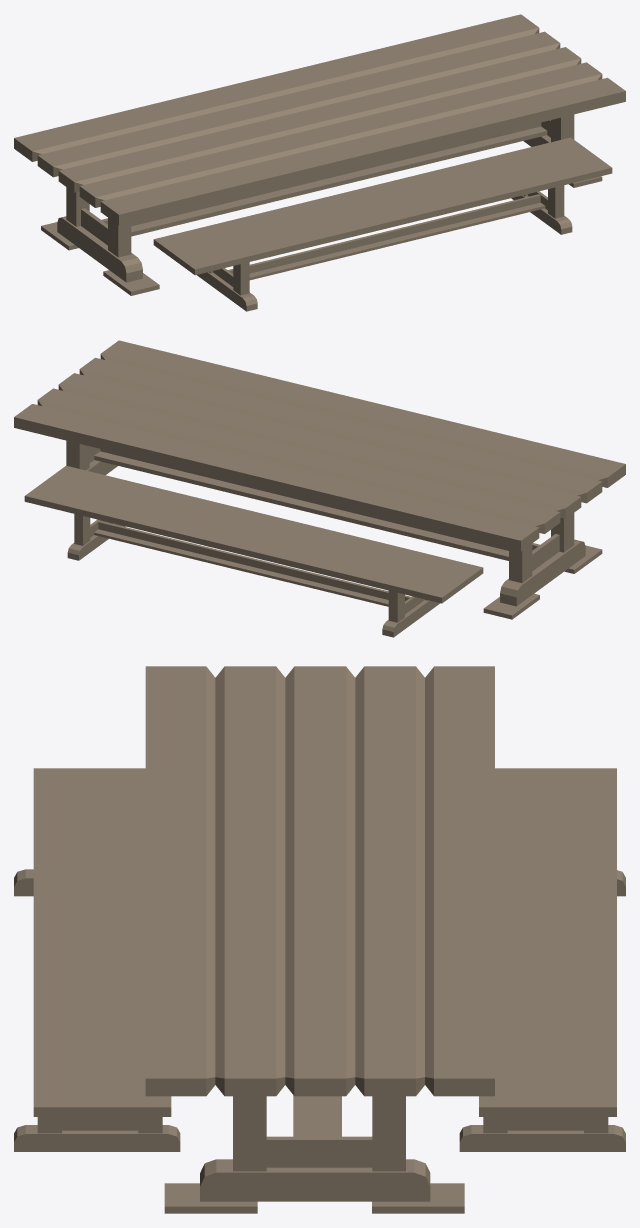
The model's file is Dining Table withbenches.fbx.
The picture shows the model from 3 angles, top to bottom: view 1: azimuth 30°, elevation 25°; view 2: azimuth 150°, elevation 25°; view 3: azimuth 270°, elevation 25°; orthographic projection. The views are drawn at different scales.
Visible parts, largest first — view 1: Dining Table withbenches; view 2: Dining Table withbenches; view 3: Dining Table withbenches.
Part boxes in pixels (x1,y1,x2,y2): Dining Table withbenches: (14, 14, 625, 311); Dining Table withbenches: (14, 340, 625, 637); Dining Table withbenches: (14, 666, 625, 1213).
Size of the model in its own units: 706 by 119 by 443.
